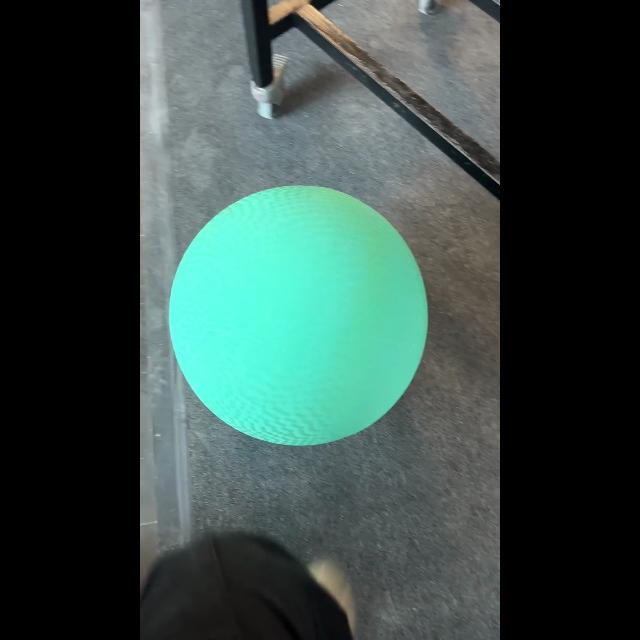ALGAE: (168, 184, 428, 446)
